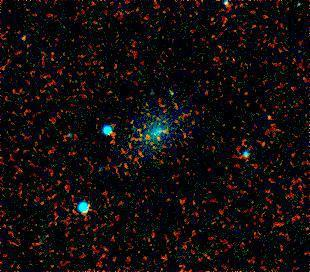star: (252, 98, 282, 128)
